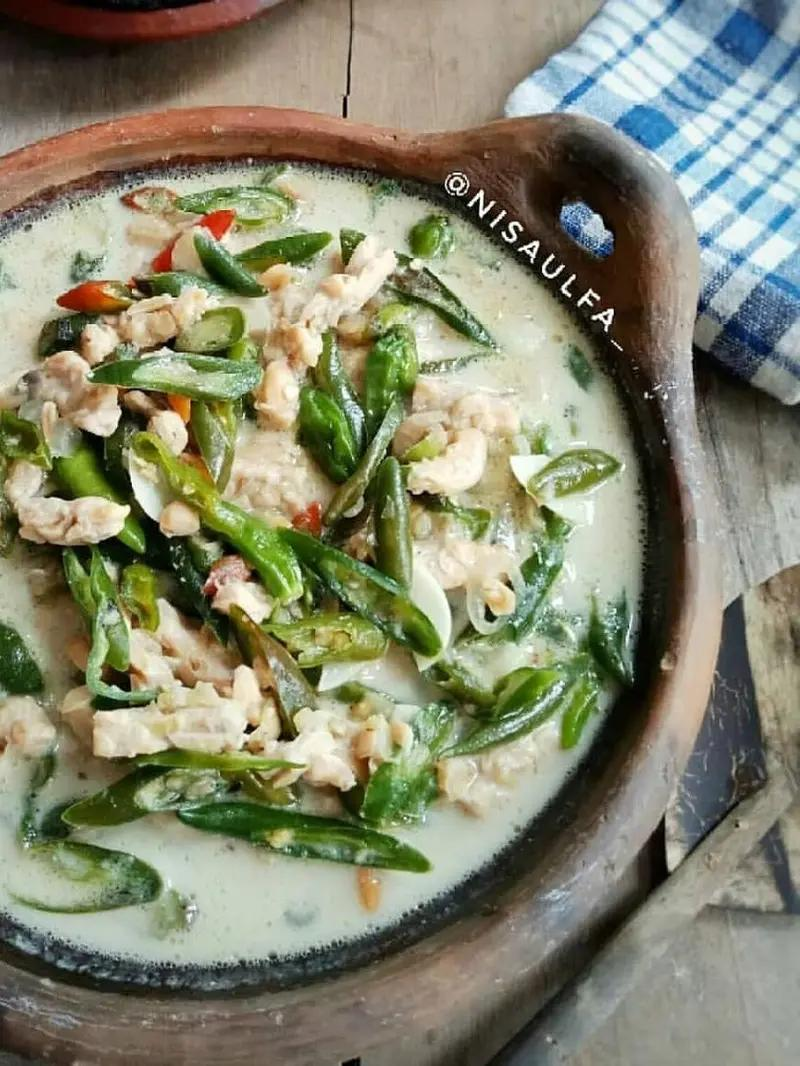buah_sayur_lainnya: (3, 241, 454, 885)
